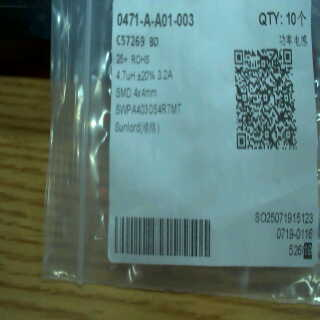4.7uH: (111, 68, 136, 84)
